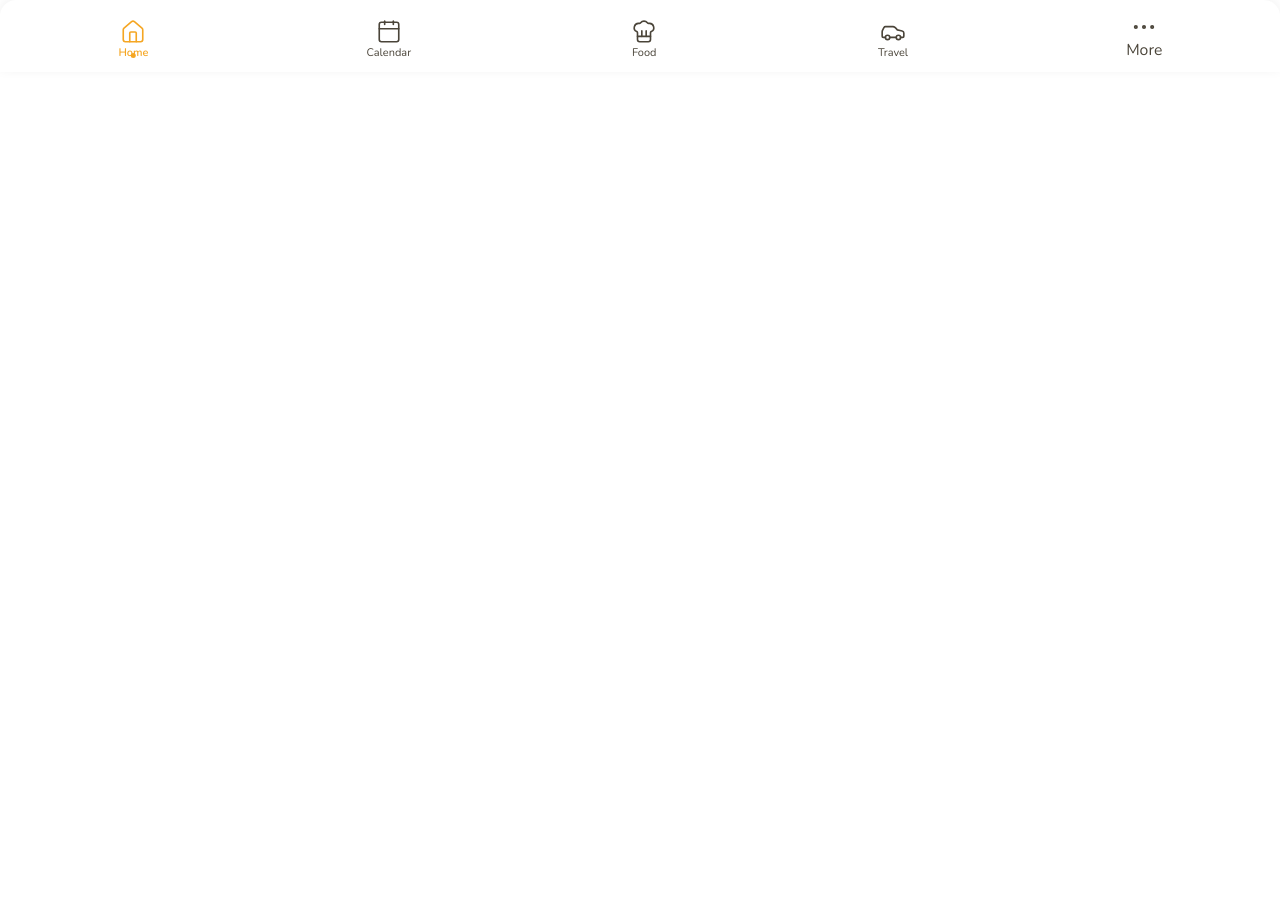
Test: NavBar — portrait hamburger layout › opens sheet with overflow modes when More is clicked
What coordinates should you click on to do the following:
click the button with aria-label "more navigation options"
I would click on:
 (1144, 36)
Its box is x1=1117 y1=4 x2=1171 y2=68.
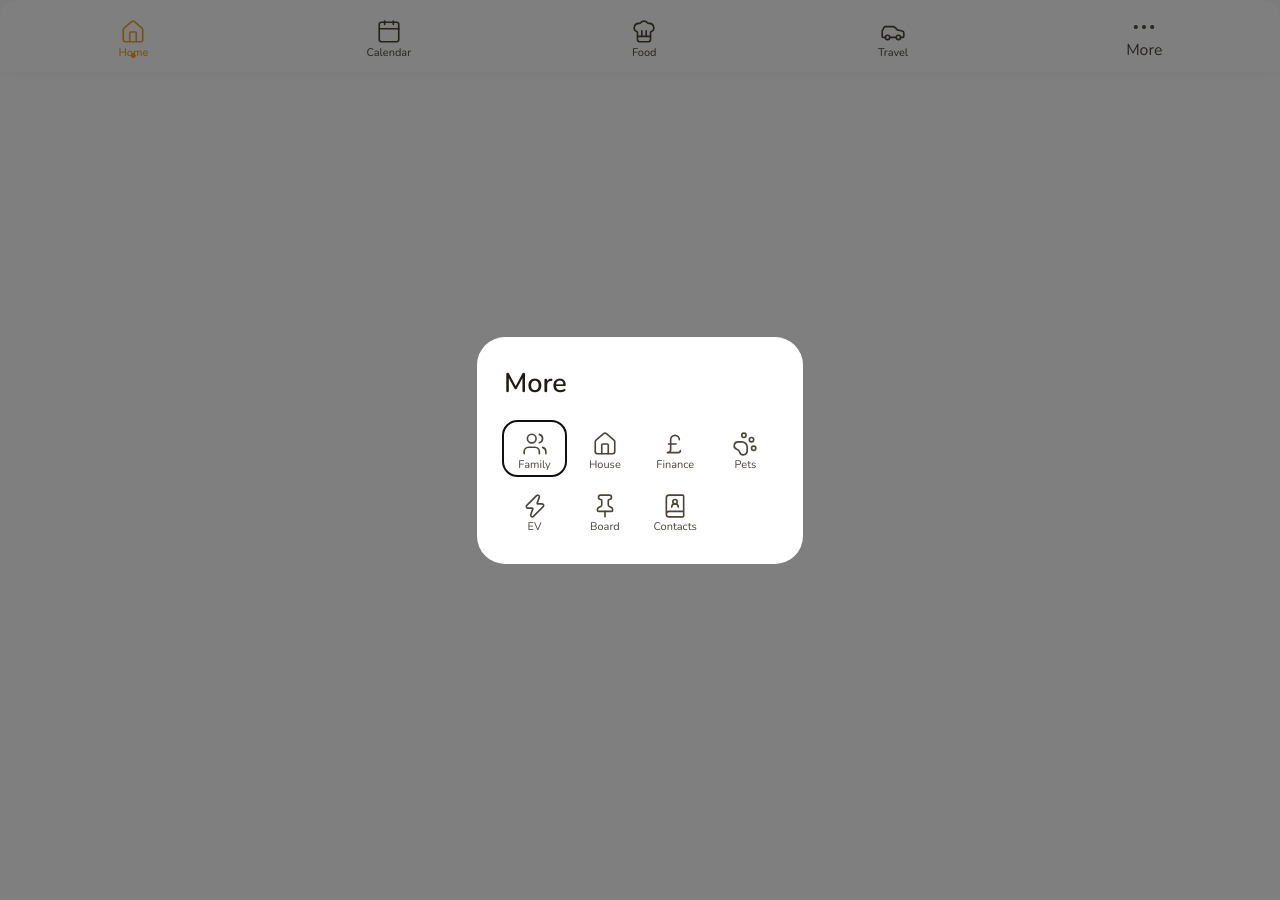
Expected: the dialog is shown, x1=477 y1=336 x2=803 y2=564
Expected: the text "Family" is shown, x1=518 y1=459 x2=551 y2=470
Expected: the text "House" is shown, x1=589 y1=459 x2=621 y2=470
